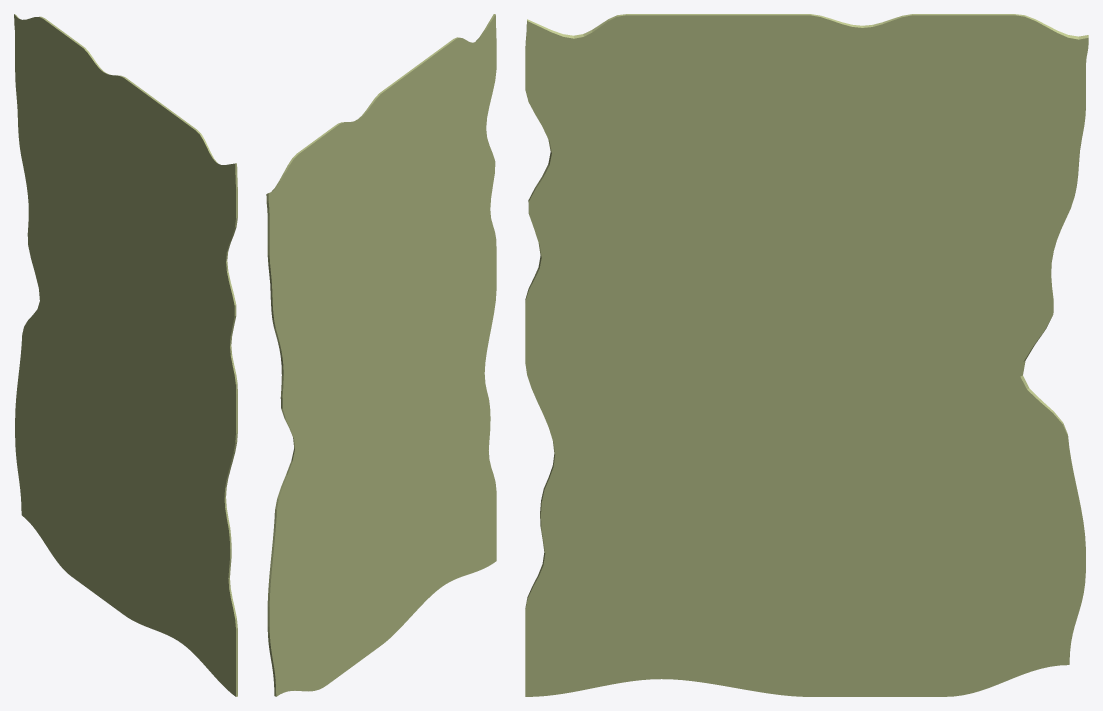
Rendered from Paper-Sheet.fbx.
The picture shows the model from 3 angles, left to right: view 1: azimuth 30°, elevation 25°; view 2: azimuth 150°, elevation 25°; view 3: azimuth 270°, elevation 25°; orthographic projection. The views are drawn at different scales.
Parts seen in each view (by area): view 1: Paper-Sheet; view 2: Paper-Sheet; view 3: Paper-Sheet.
Boxes of the visible parts, left/top/right/bottom form: Paper-Sheet: left=14, top=14, right=237, bottom=696; Paper-Sheet: left=266, top=14, right=496, bottom=696; Paper-Sheet: left=525, top=14, right=1088, bottom=696.
Size of the model in its own units: 0.1679 by 44.52 by 33.35.
